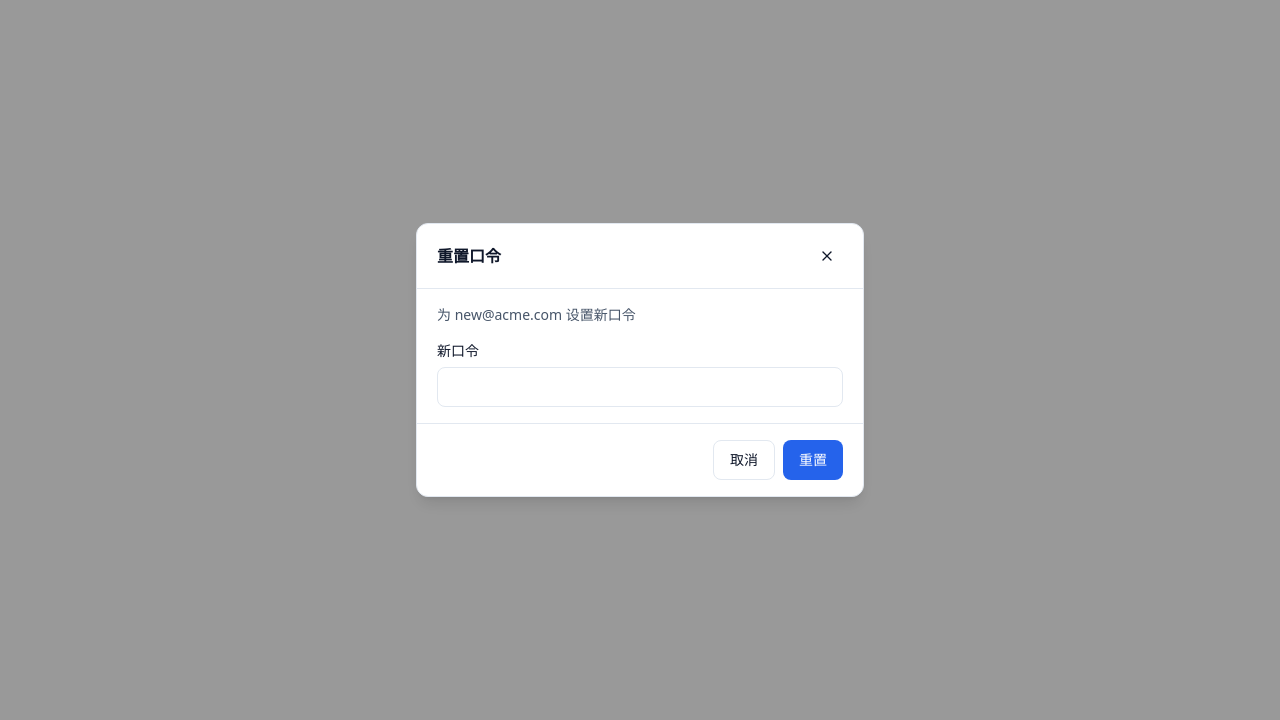
ResetPasswordDialog › echoes a rejected new password at the field: 新口令不得与当前口令相同
In the password field labelled "新口令": (640,387) [437,367,843,407], type "New-Pass-1"
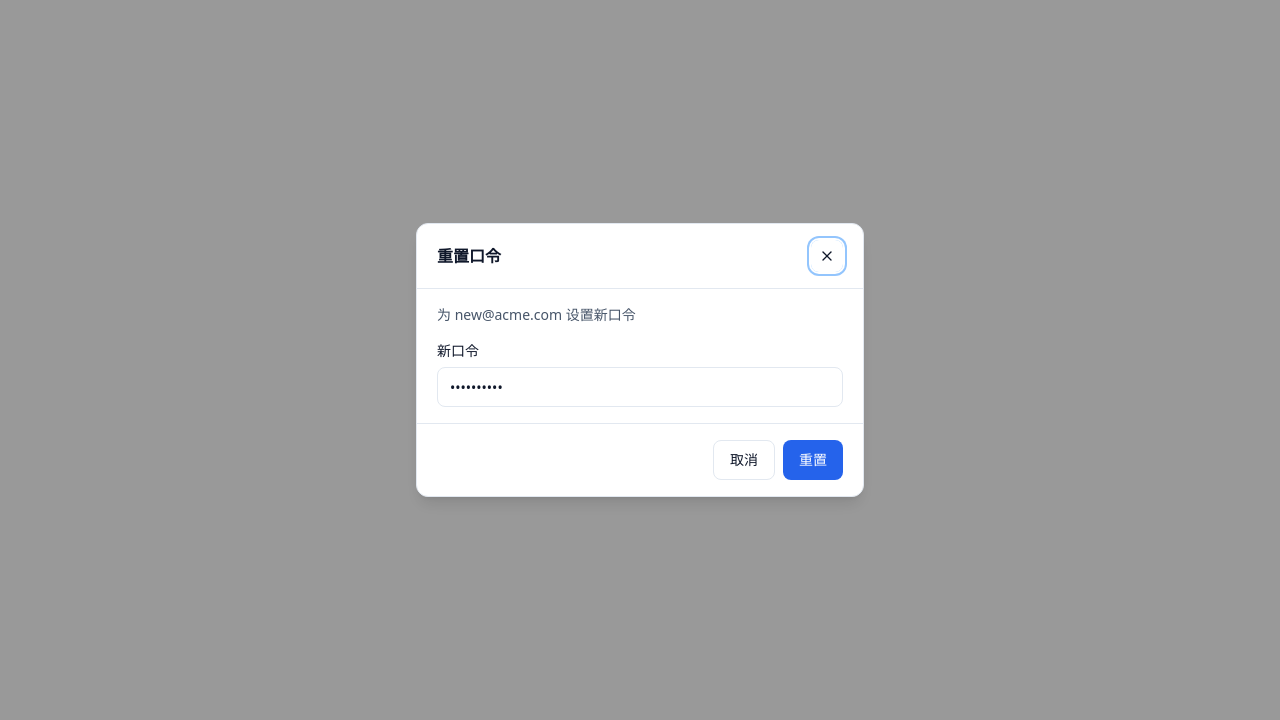
Click the button "重置": (813,460) [783,440,843,480]
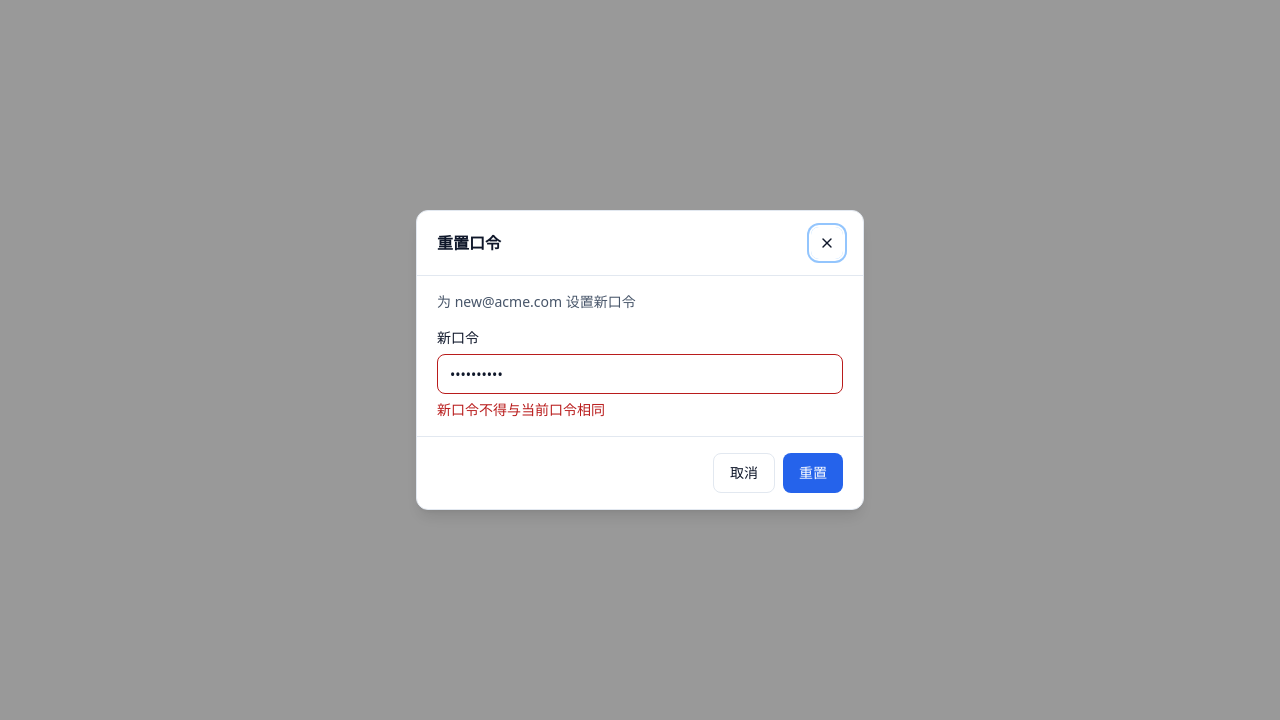
Expected: the text "新口令不得与当前口令相同" is shown, [437,400,605,419]
